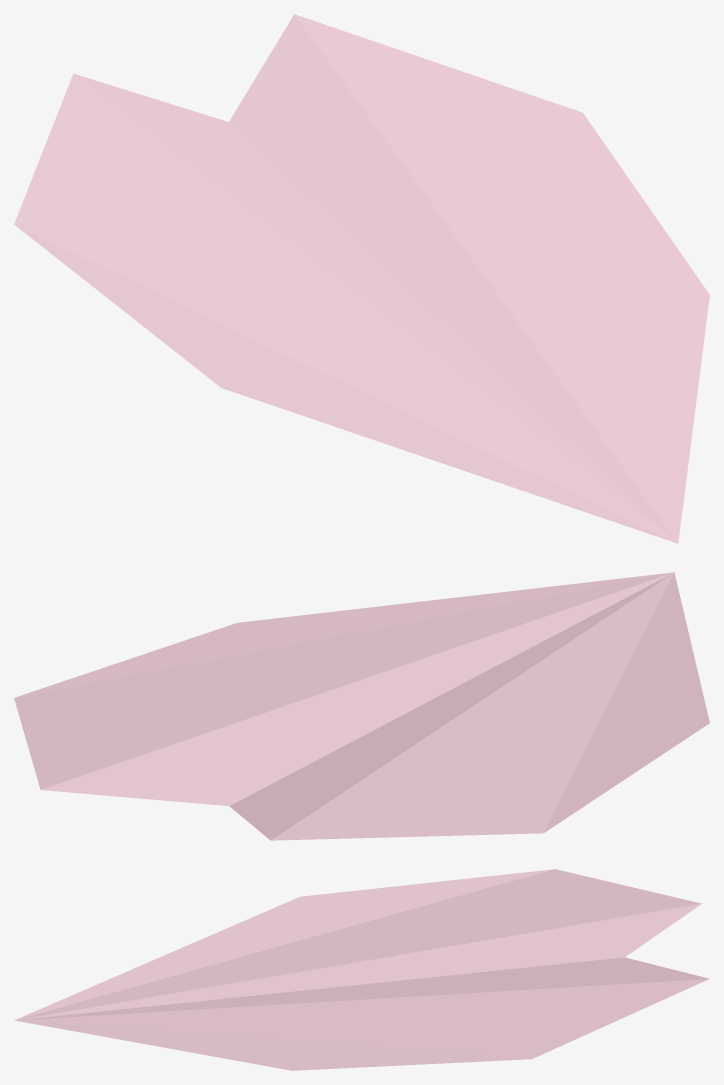
The model's file is sakura-petal.glb.
3 renders of one model, top to bottom at view 1: azimuth 30°, elevation 25°; view 2: azimuth 150°, elevation 25°; view 3: azimuth 270°, elevation 25°, orthographic. The views are drawn at different scales.
Parts seen in each view (by area): view 1: Sakura_Petal_Source; view 2: Sakura_Petal_Source; view 3: Sakura_Petal_Source.
Part boxes in pixels (x1,y1,x2,y2): Sakura_Petal_Source: [14, 14, 709, 543]; Sakura_Petal_Source: [14, 572, 709, 840]; Sakura_Petal_Source: [14, 869, 709, 1070].
Bounding box in the file's own units: 0.056 × 0.012 × 0.09.
